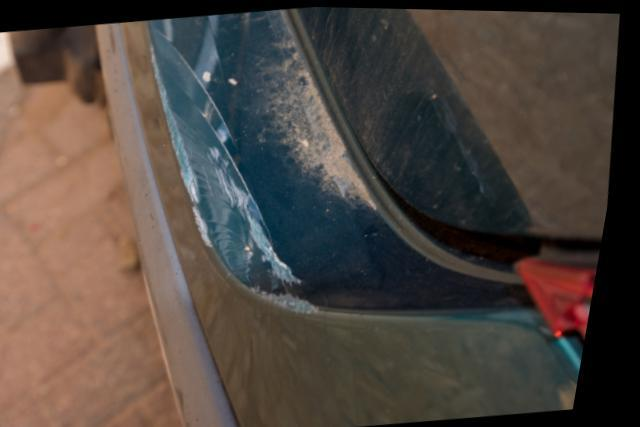scratch: (142, 38, 334, 314)
